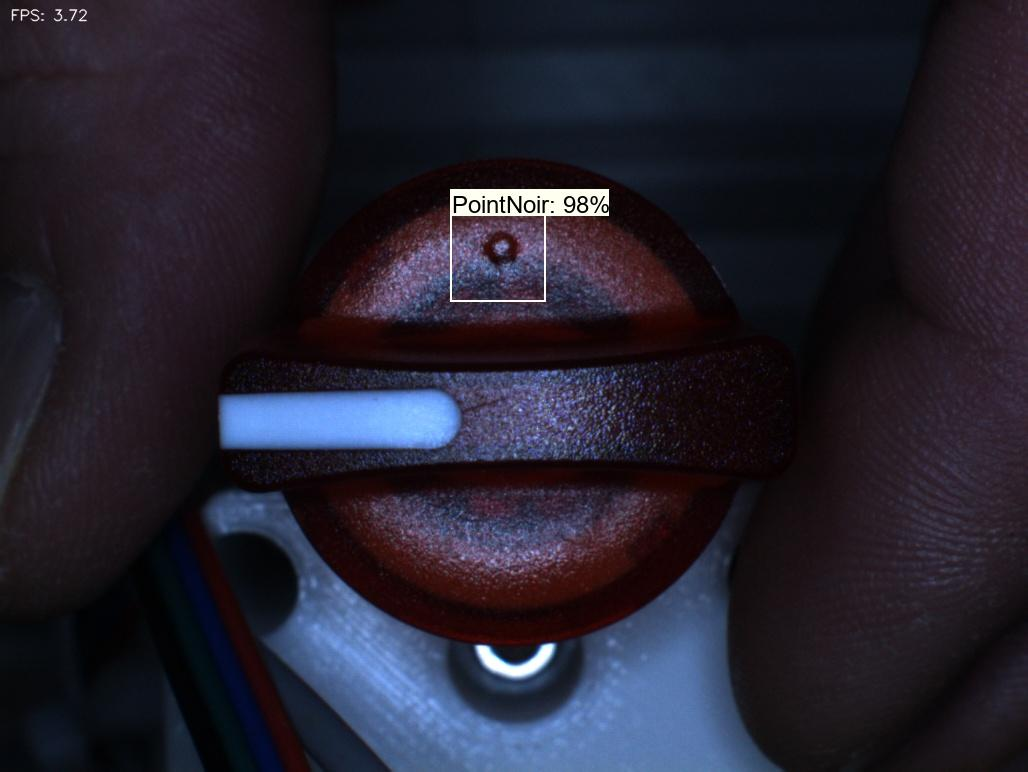Choc: (462, 209, 543, 295)
